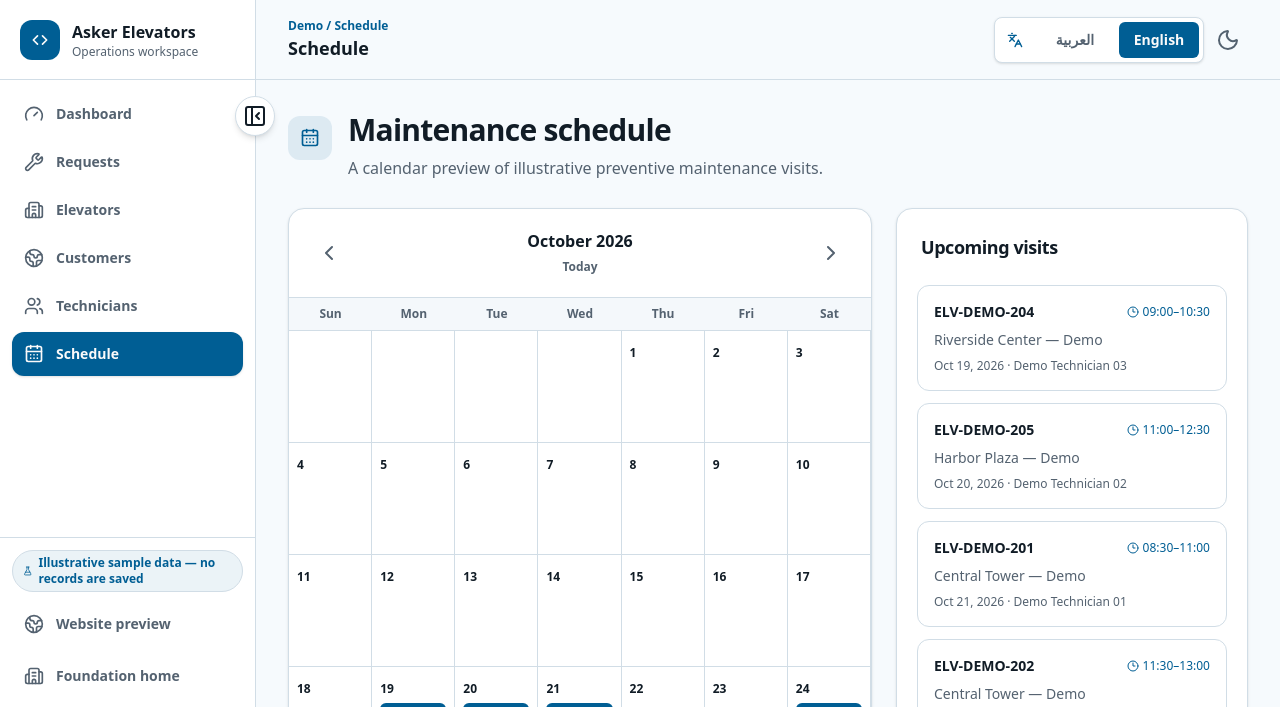
interactive frontend preview › navigates the interactive maintenance calendar
The image size is (1280, 707).
Expected: the heading "October 2026" is shown, [527,229,633,253]
Click the button named "Next".
click(831, 253)  # box [811,233,851,273]
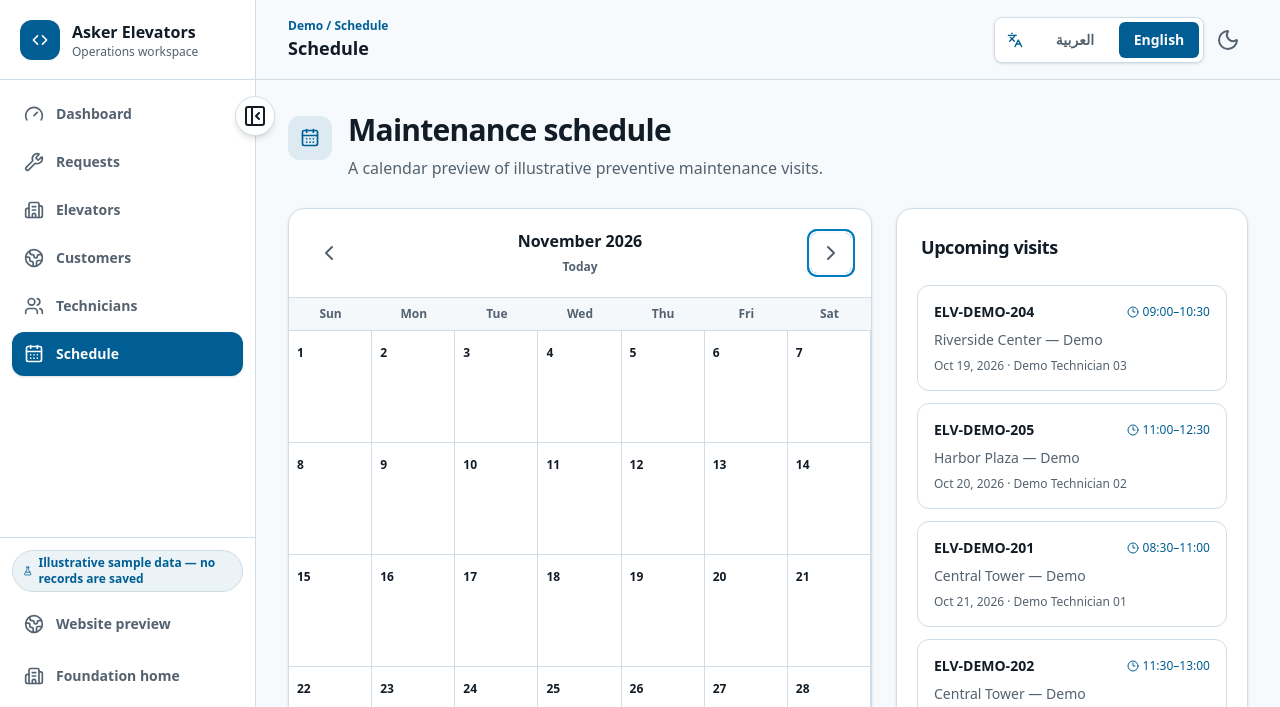
Expected: the heading "November 2026" is shown, [518,229,642,253]
